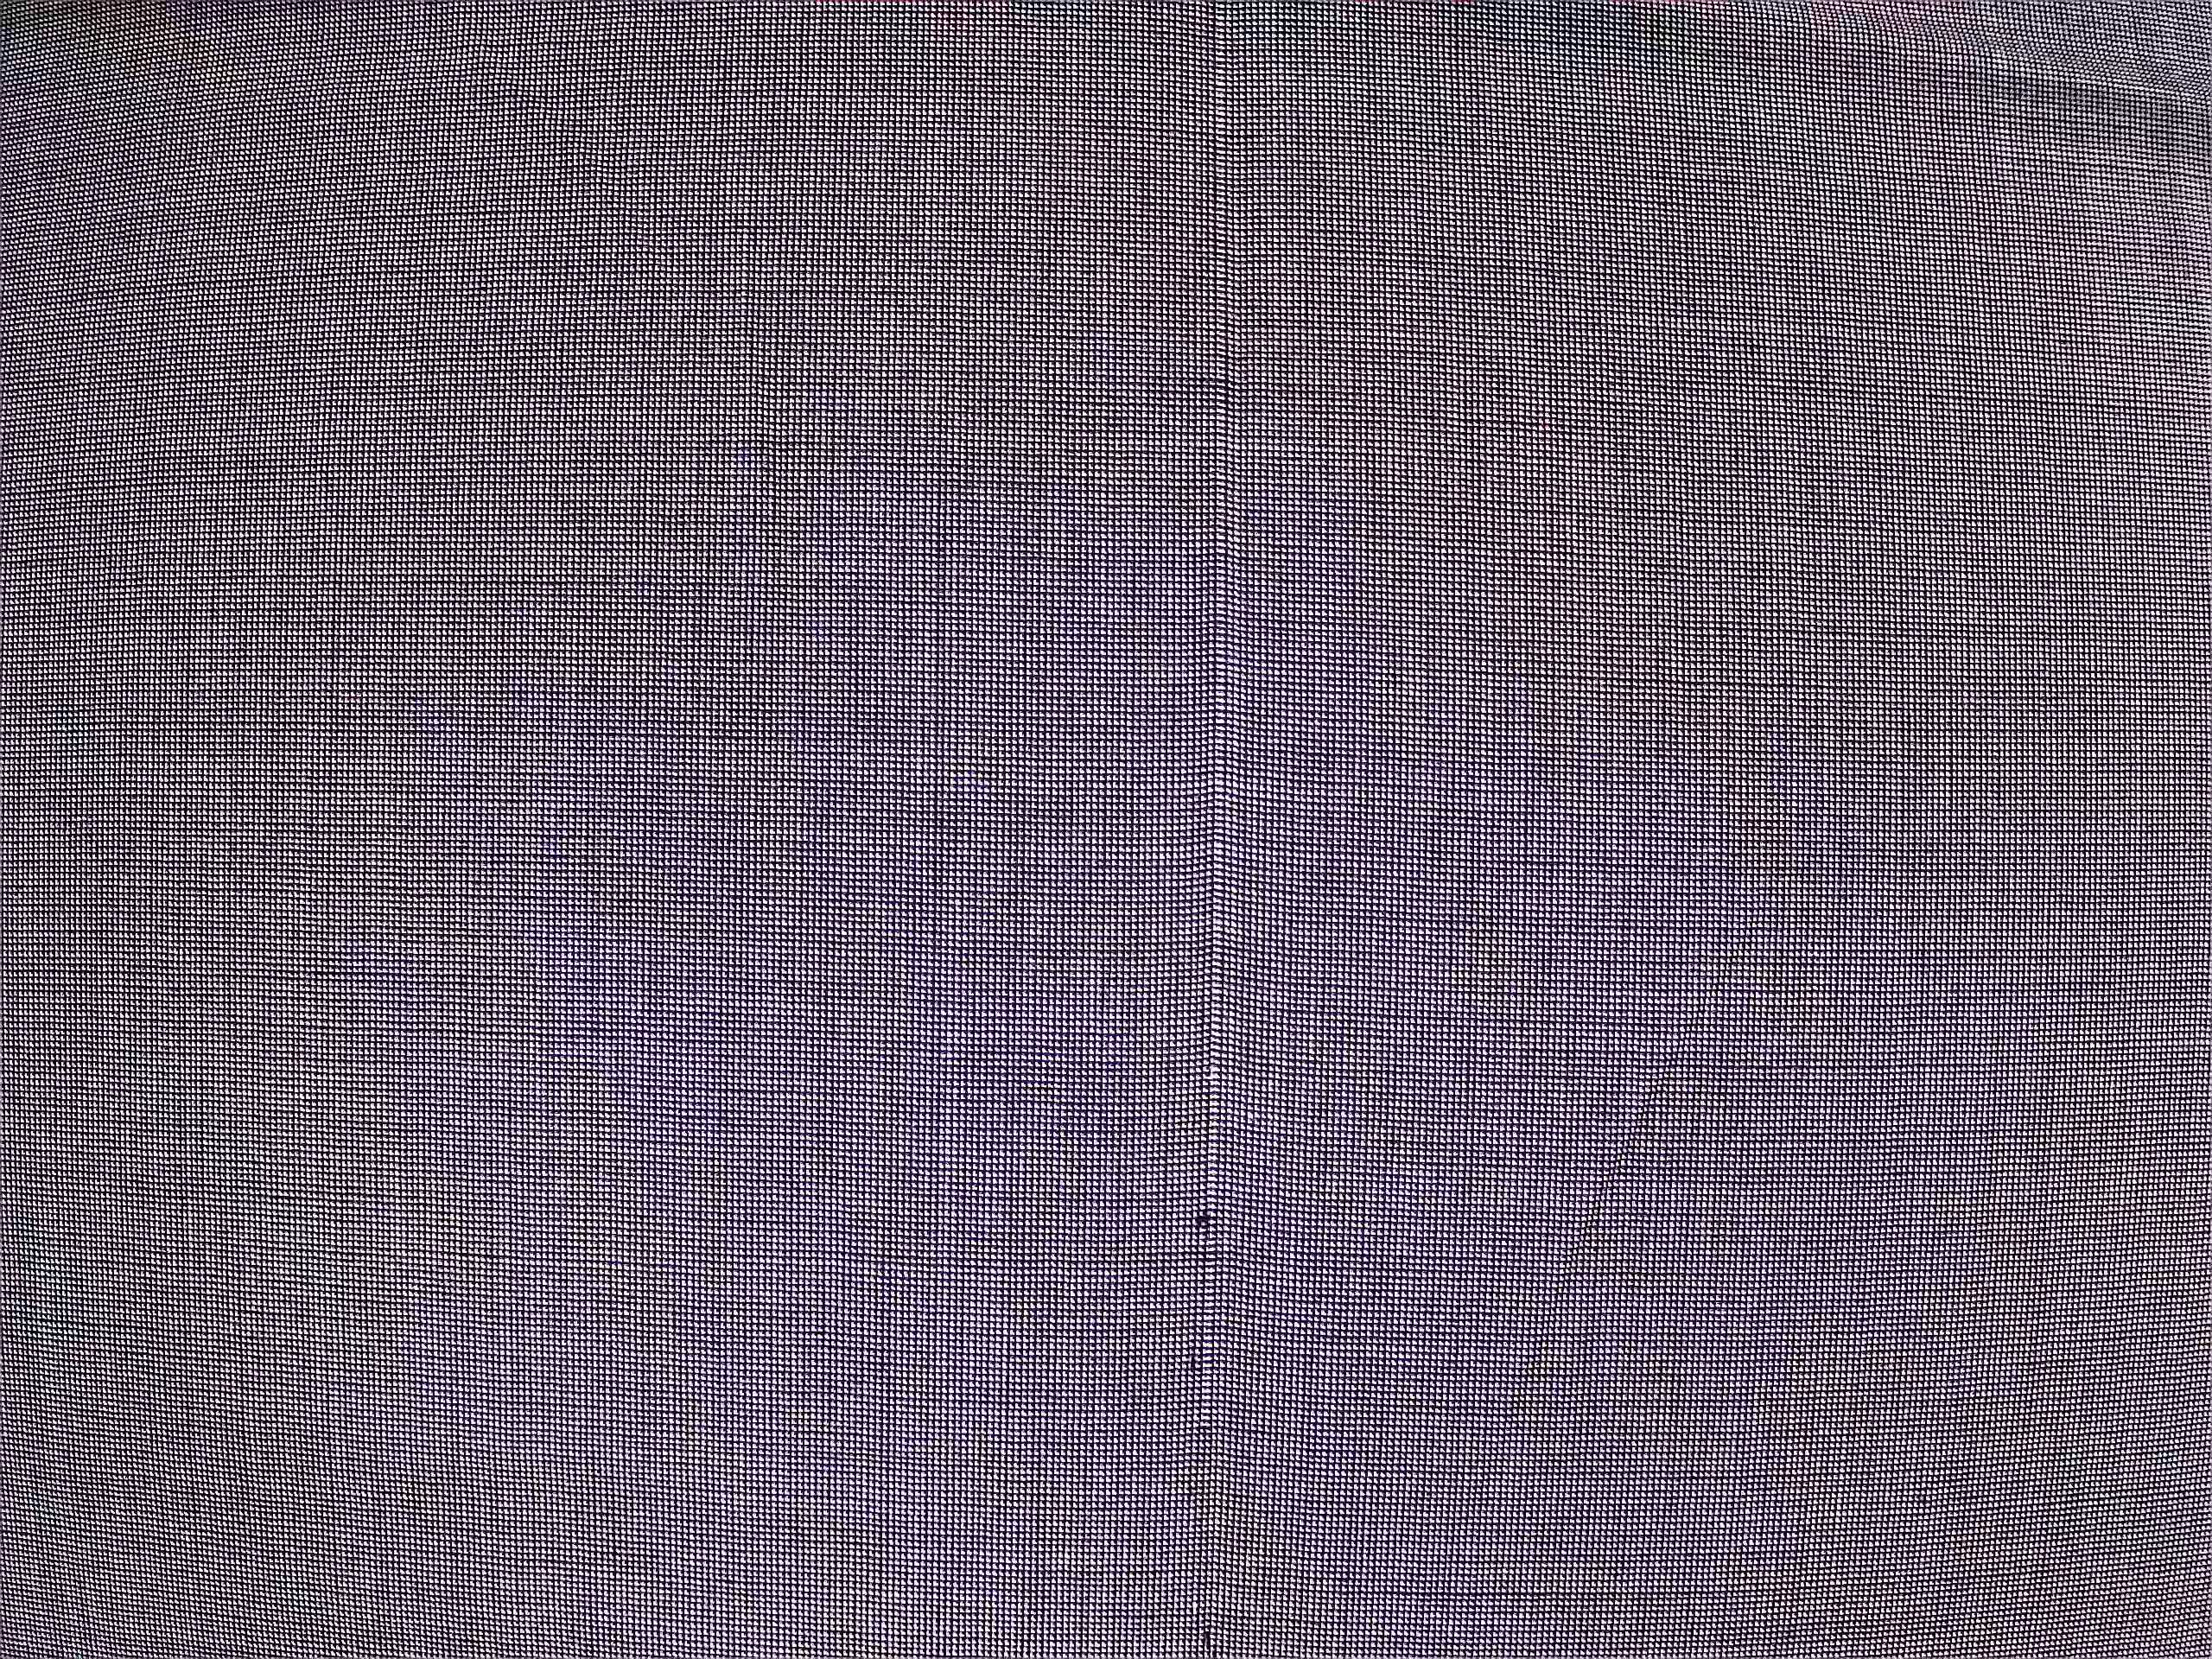hanging-warp: (1179, 23, 1252, 1502)
